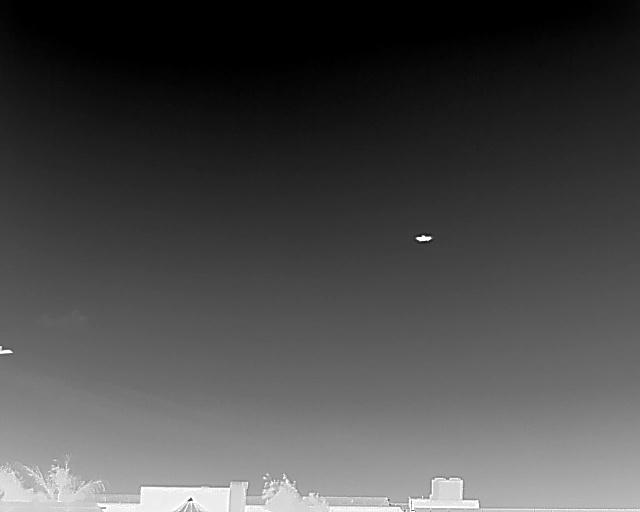fpv-drone: (415, 233, 432, 243)
